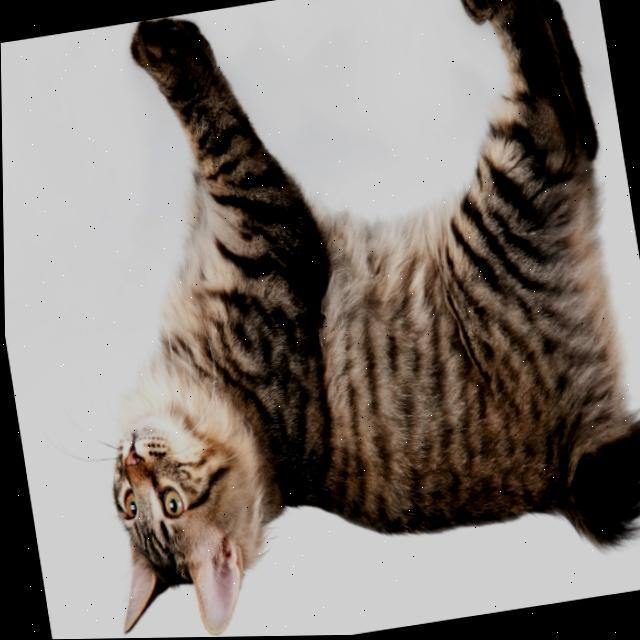American Bobtail: (26, 0, 640, 640)
